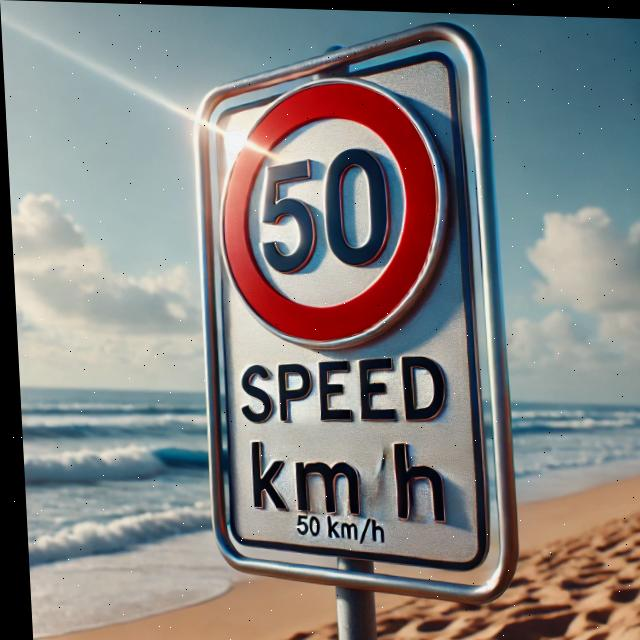Speed limit 50: (212, 71, 452, 351)
